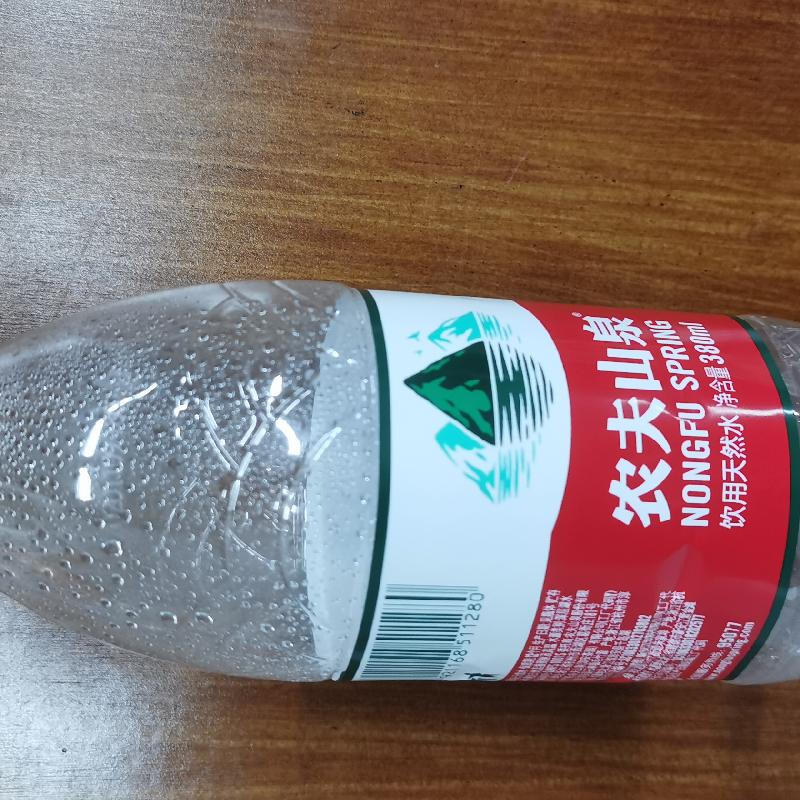bottles: (12, 278, 799, 688)
